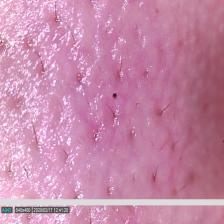Oily: (0, 0, 224, 194)
